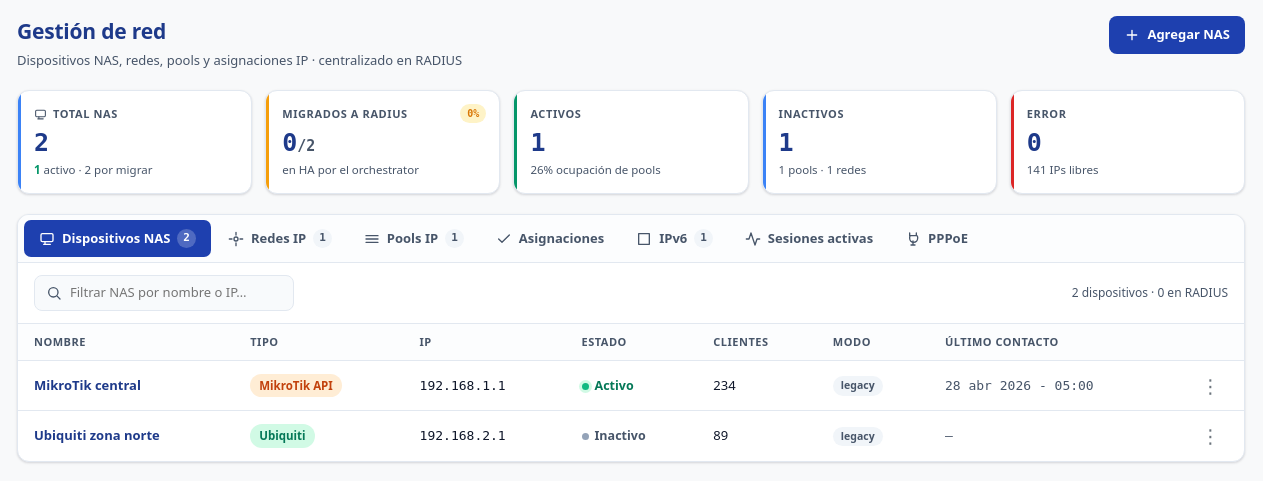
GestionRedPage › switching to "Redes IP" tab shows network table
The width and height of the screenshot is (1263, 481).
Click the button "Redes IP 1" at (280, 239), box [213,220,347,257]
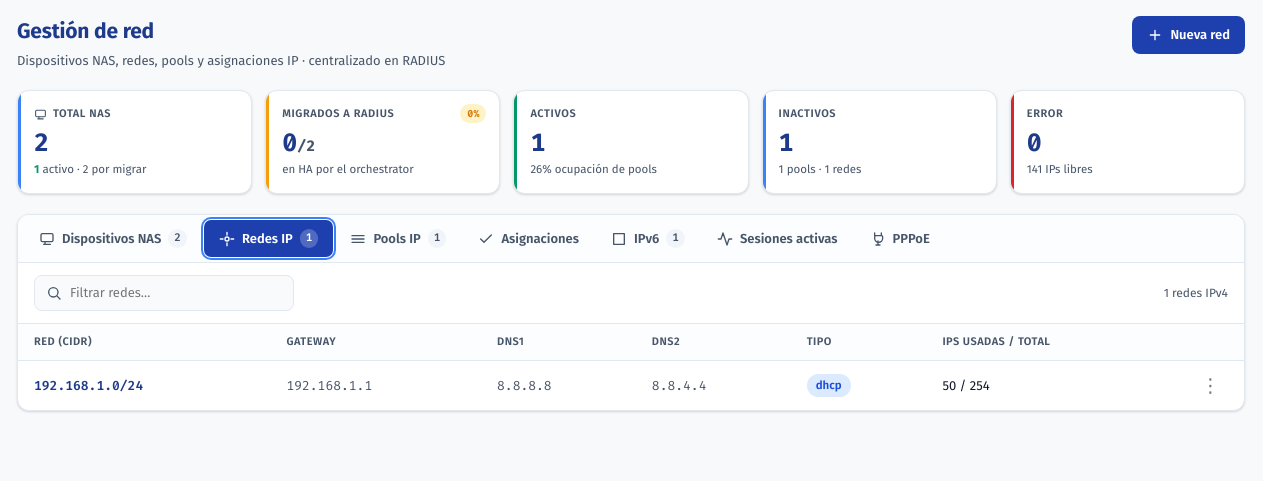
Check: the text "192.168.1.0/24" is shown, box [18,361,270,410]
